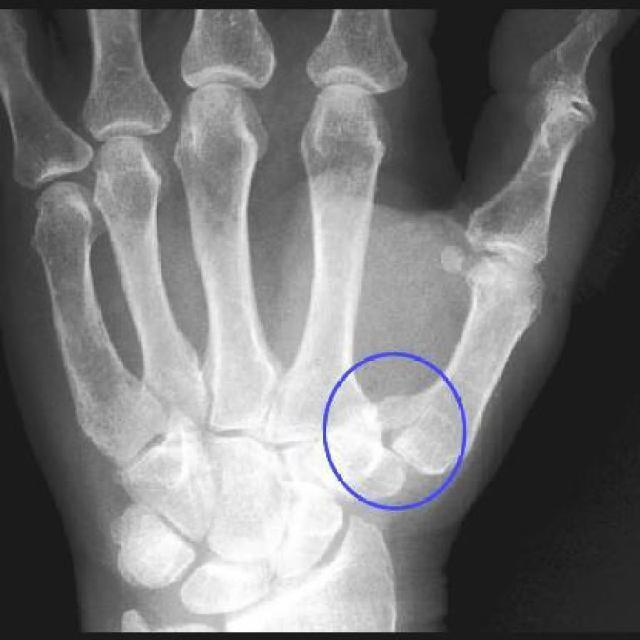Fracture: (372, 383, 426, 452)
